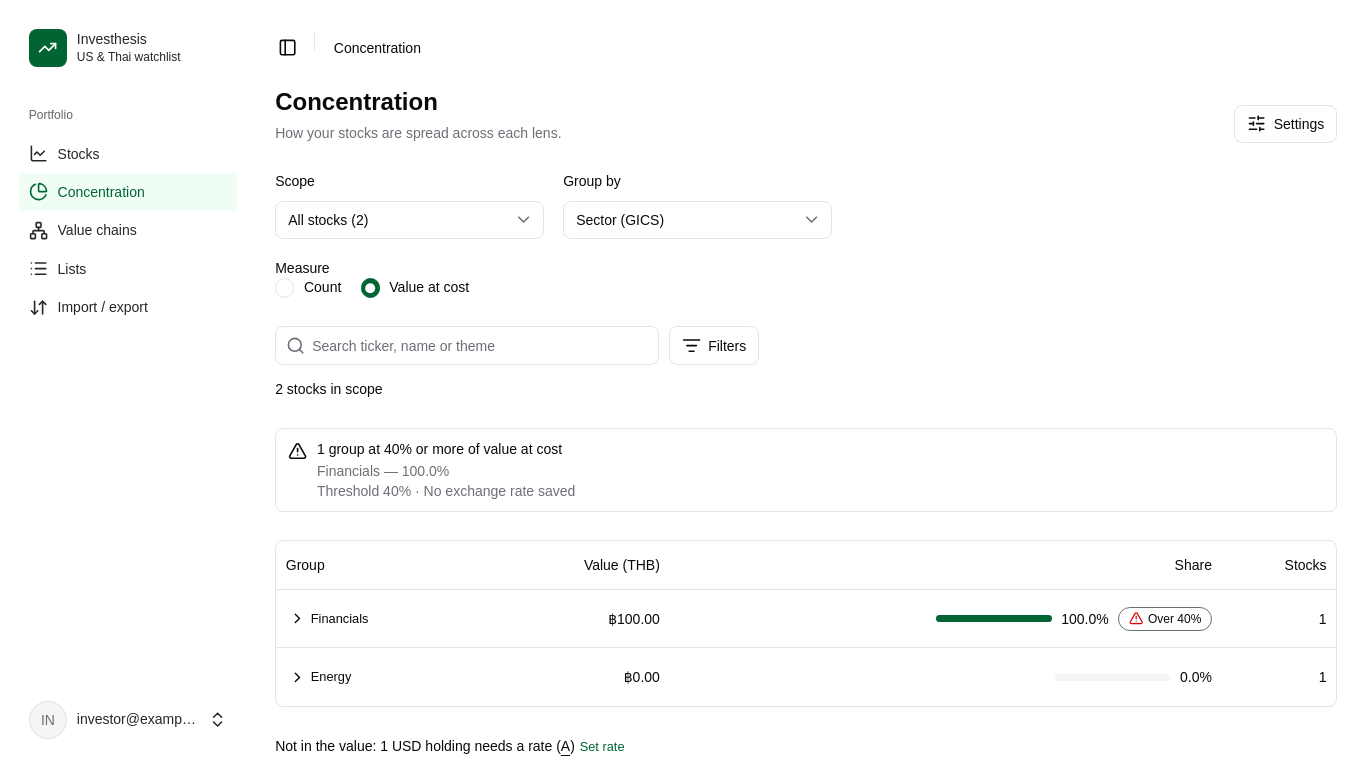
concentration settings dialog › TC-U-480: save a rate and USD joins the value
Check: the heading "Concentration" is shown, box [275,88,438,115]
Check: the text "1 USD holding needs a rate" is shown, box [380,738,552,754]
Click the button "Set rate" at [602, 747], box [579,737,626,757]
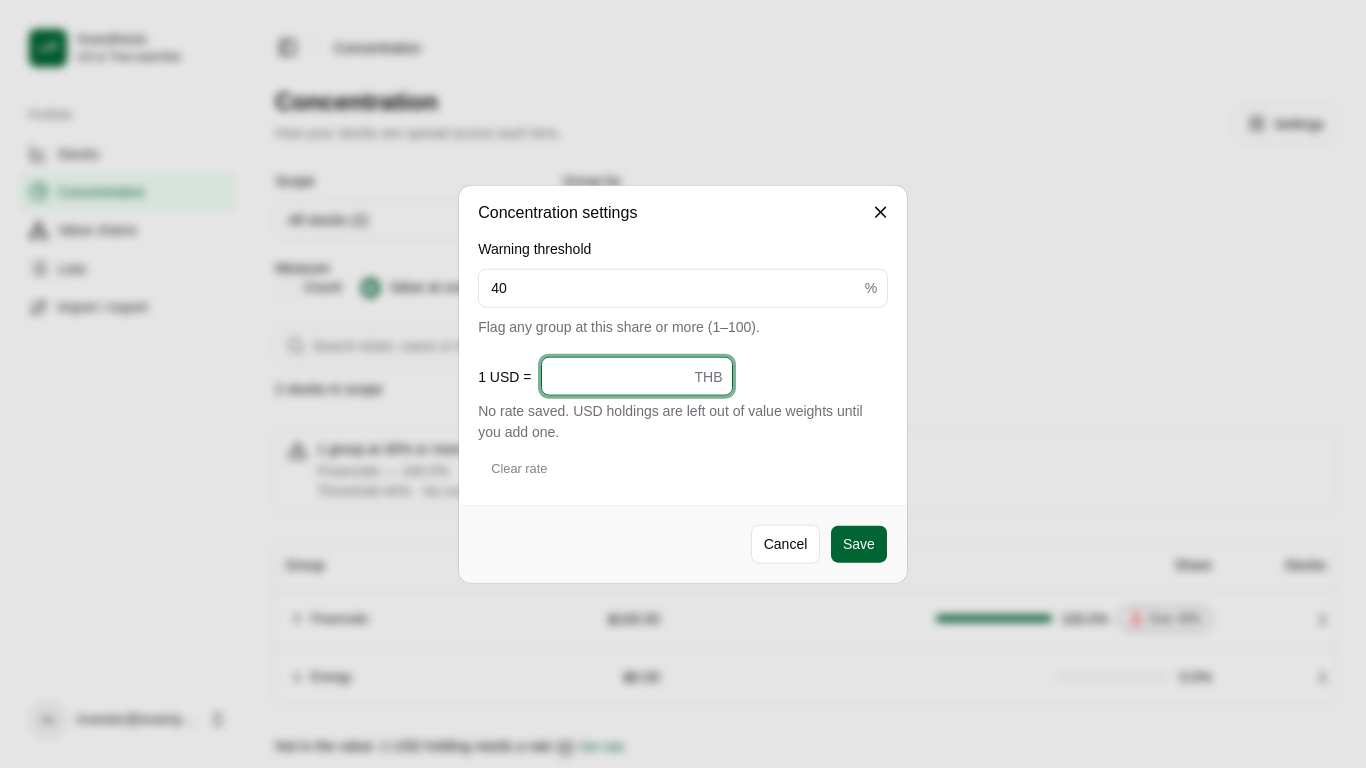
Check: the dialog is shown, box [459,186,907,582]
Type "36.25" into the field named "Exchange rate, THB per 1 USD" at [618, 376], box [542,357,694,395]
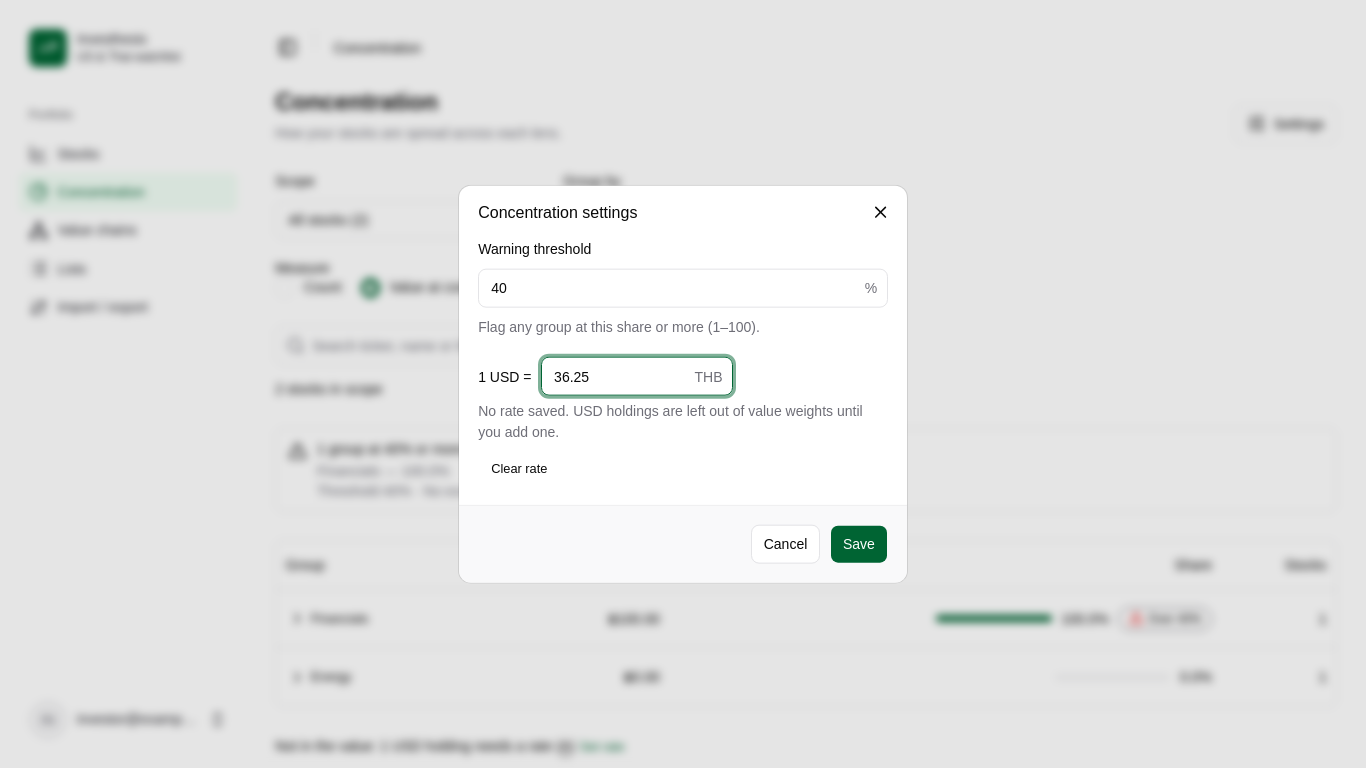
Click the button "Save" at [859, 544], box [830,525,888,563]
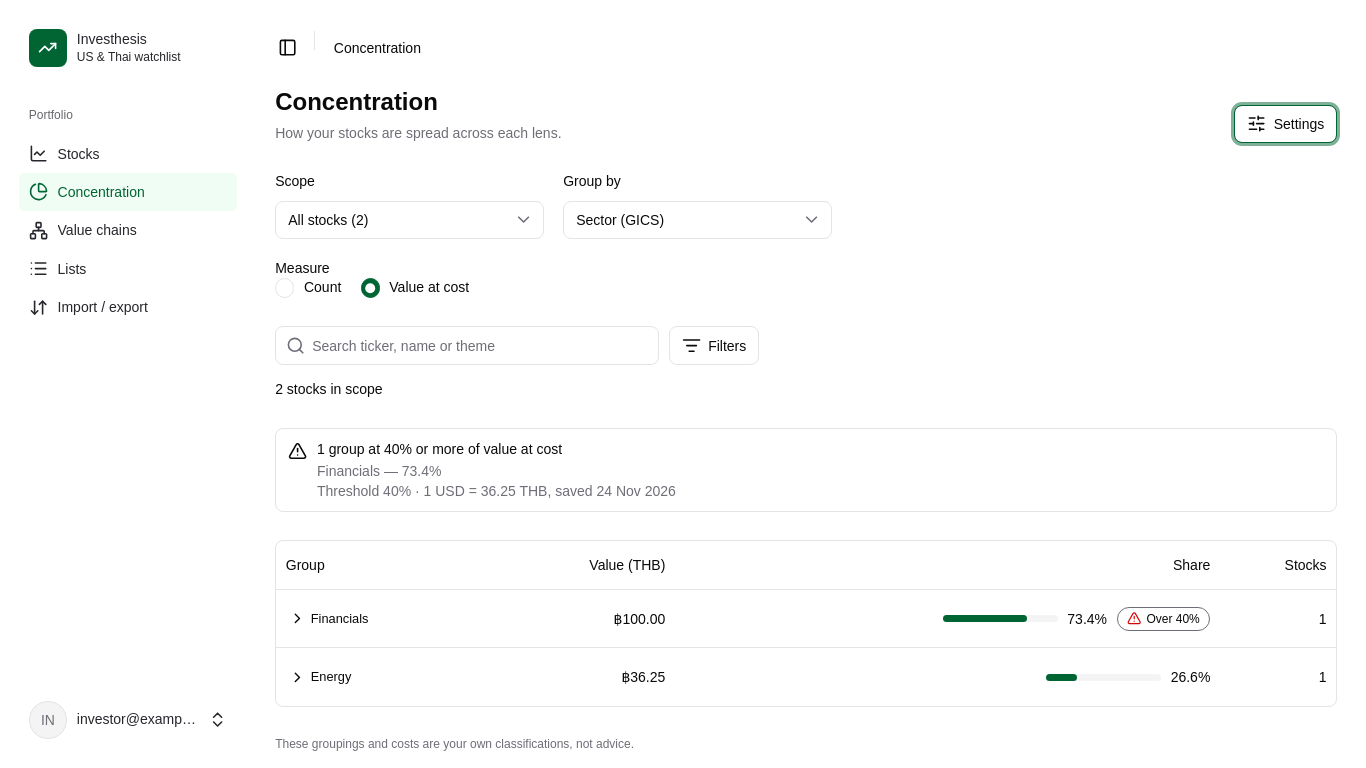
Check: the dialog is gone
Check: the text "1 USD holding needs a rate" is gone
Check: the text "Threshold 40% · 1 USD = 36.25 THB, saved 24 Nov 2026" is shown, box [317,483,676,499]
